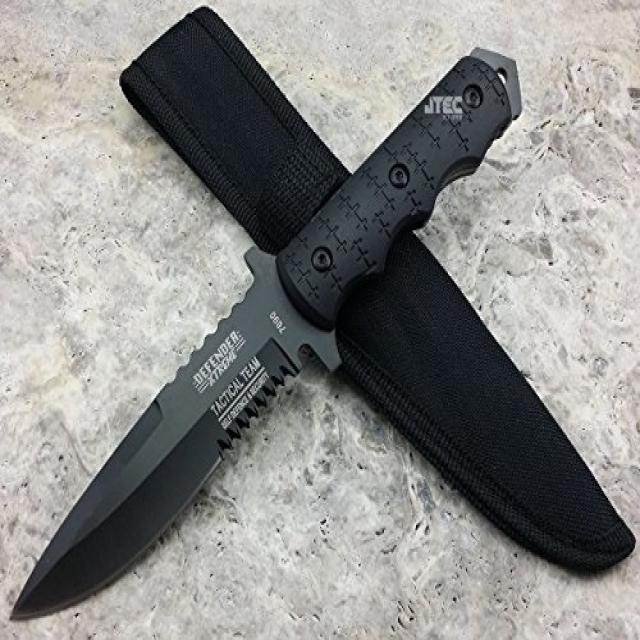knife: (5, 27, 535, 629)
